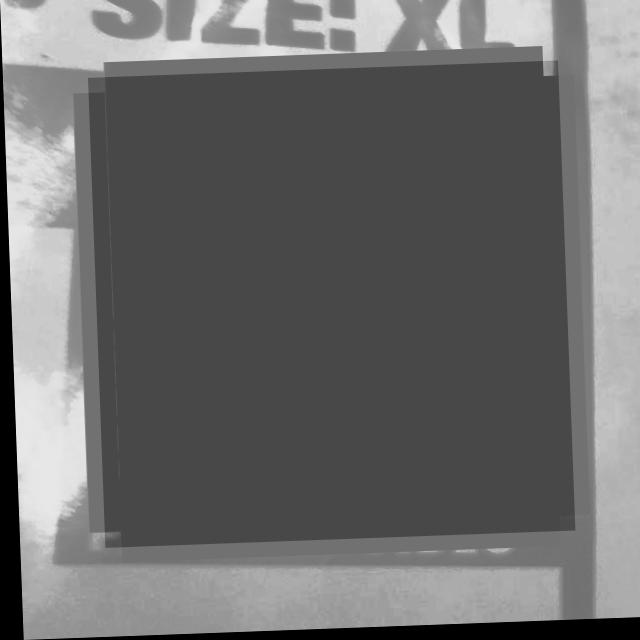qr_code: (87, 65, 571, 549)
